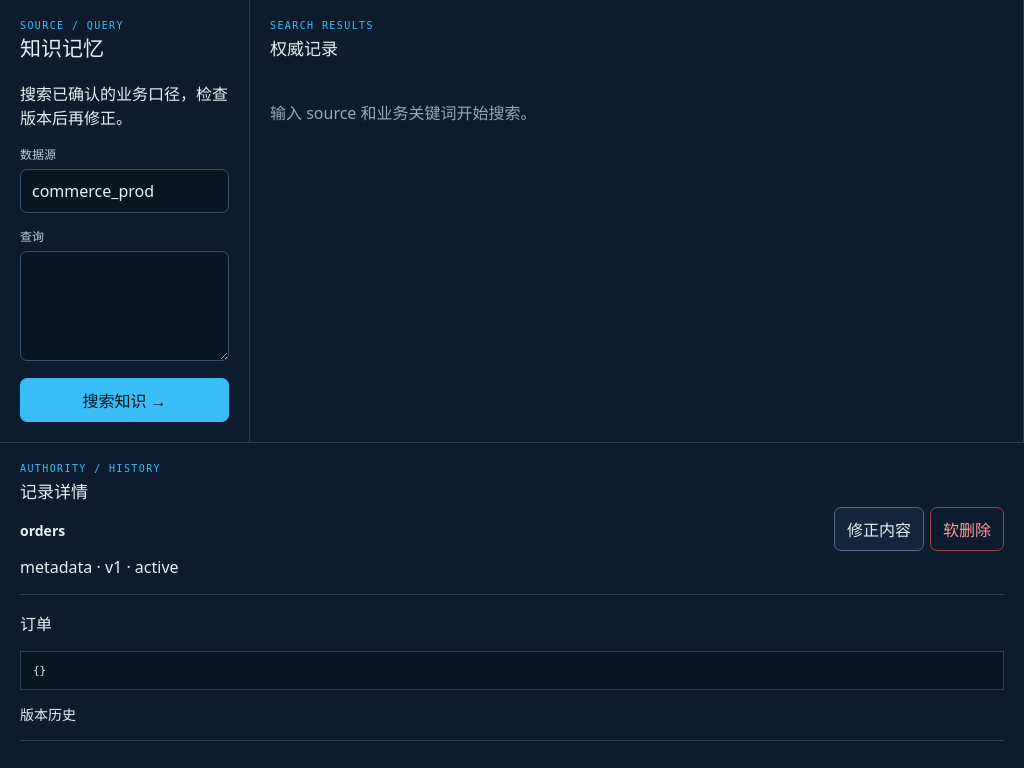
it: knowledge corrections › disables detail mutations while another memory detail is loading
The width and height of the screenshot is (1024, 768).
Expected: the button "软删除" is shown, [930,507,1004,551]
Type "客户" into the text box labelled "查询".
click(124, 306); type("客户")  # box [20,251,229,361]
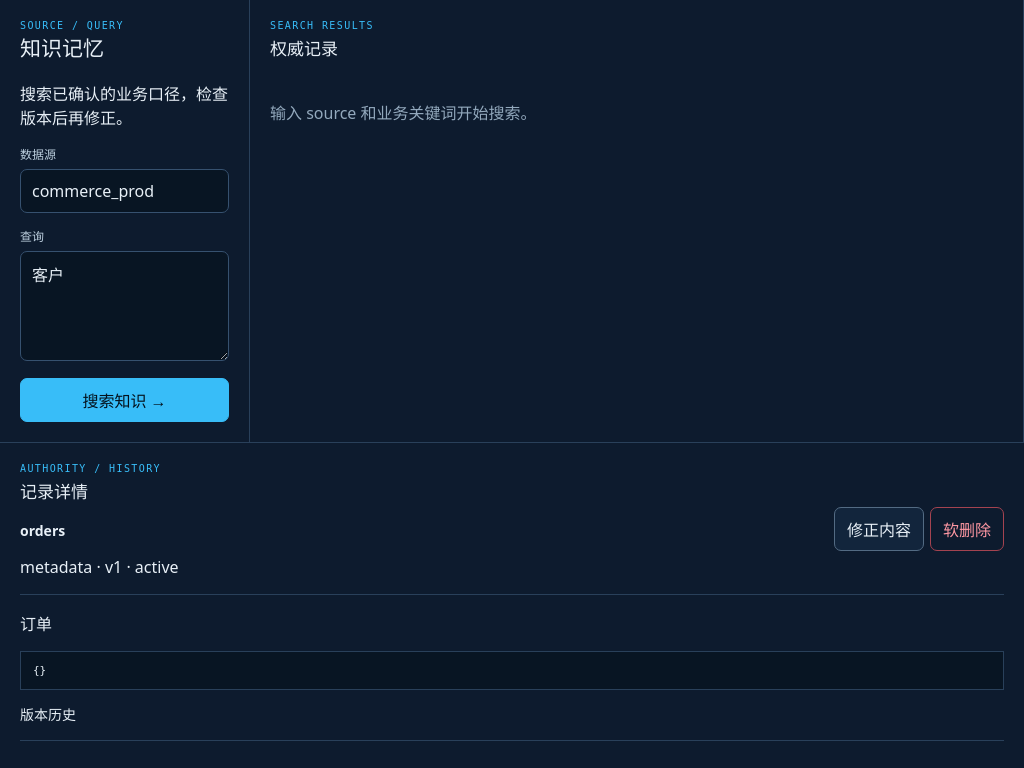
Submit the form "搜索知识 →", box [20,145,229,422]
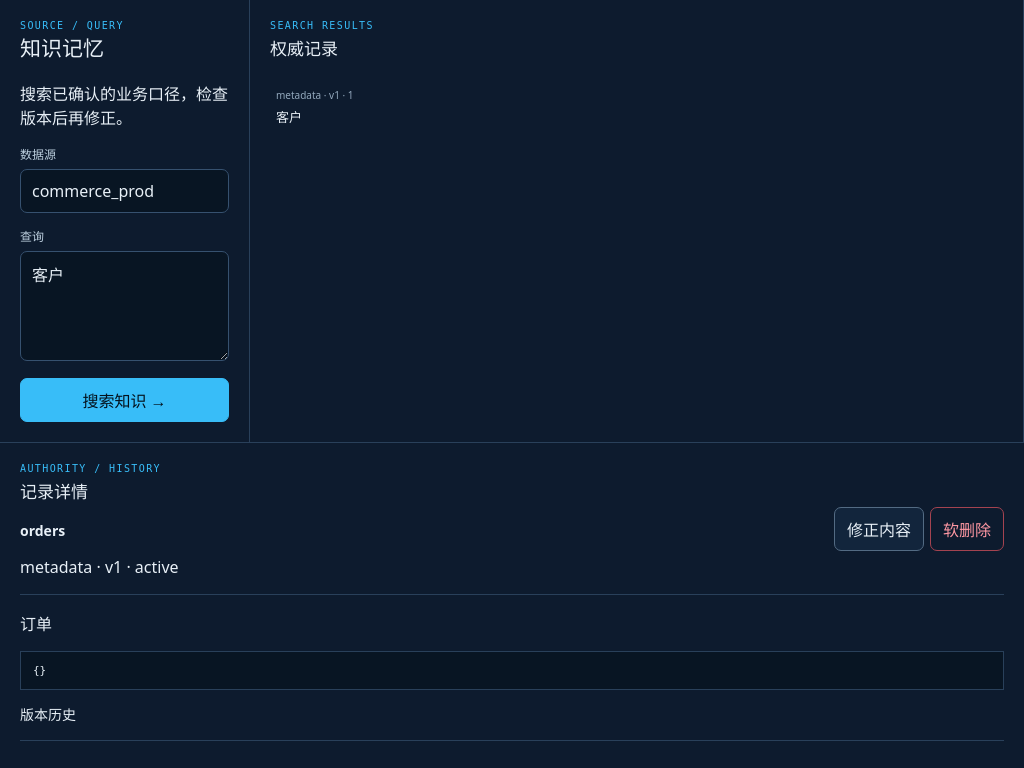
Click the button "metadata · v1 · 1 客户".
click(299, 95)  # box [262,76,1011,143]
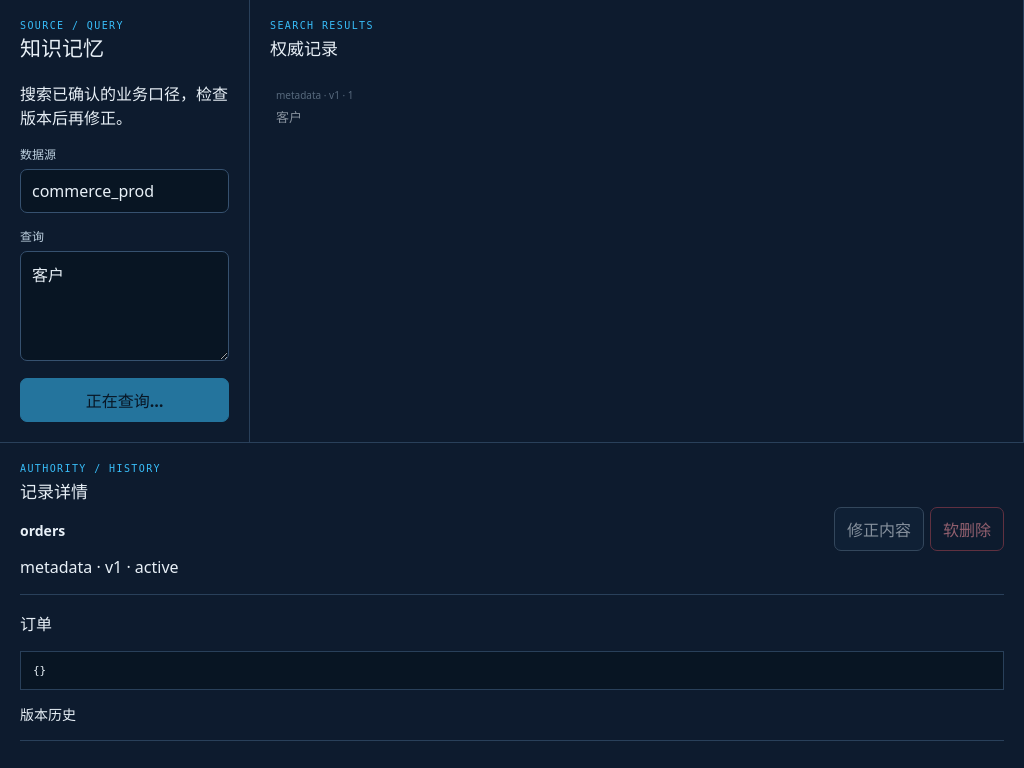
Result: the button "软删除" is disabled at [930,507,1004,551]
Result: the button "修正内容" is disabled at [834,507,924,551]
